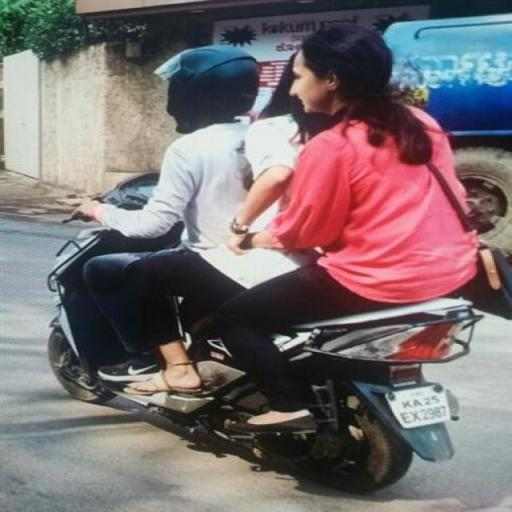tripple riding: (64, 22, 484, 302)
